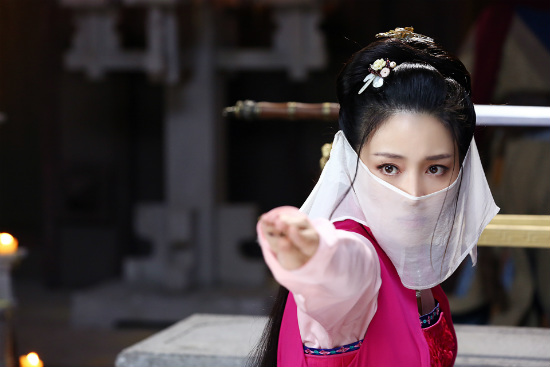face_mask: (355, 113, 459, 243)
